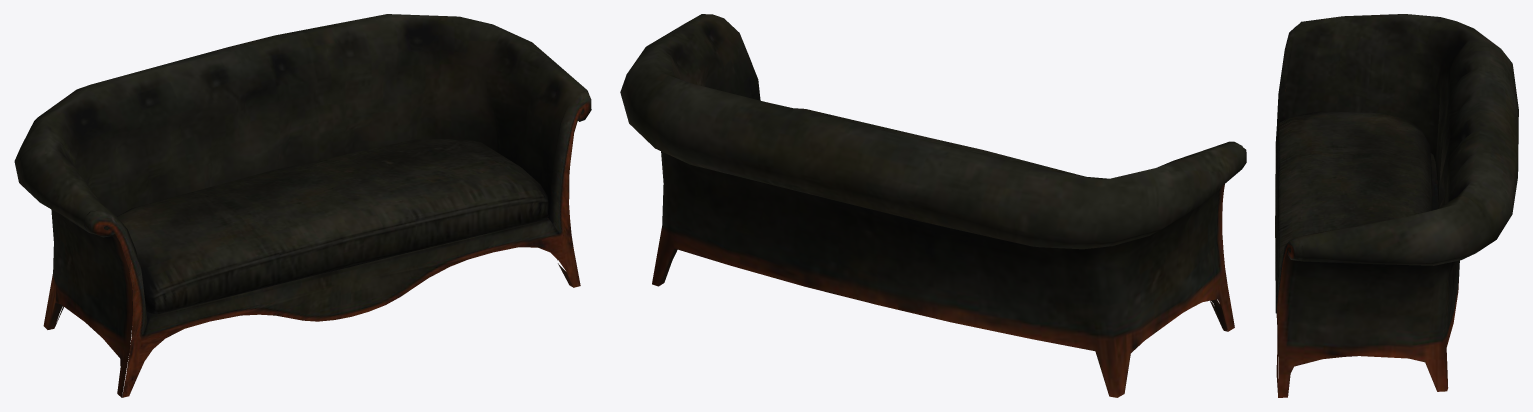
Rendered from distance.fbx.
3 views of the same model, side by side, from view 1: azimuth 30°, elevation 25°; view 2: azimuth 150°, elevation 25°; view 3: azimuth 270°, elevation 25° (orthographic). The views are drawn at different scales.
Visible parts, largest first — view 1: sofa_02_Base, sofa_02_Seat; view 2: sofa_02_Base, sofa_02_Seat; view 3: sofa_02_Base, sofa_02_Seat.
Part boxes in pixels (bbox=[...]): sofa_02_Base: bbox=[14, 14, 591, 397]; sofa_02_Seat: bbox=[117, 138, 549, 313]; sofa_02_Base: bbox=[620, 14, 1246, 397]; sofa_02_Seat: bbox=[795, 108, 1084, 176]; sofa_02_Base: bbox=[1276, 14, 1518, 397]; sofa_02_Seat: bbox=[1275, 111, 1432, 313].
Bounding box in the file's own units: 181 × 71 × 81.68.
